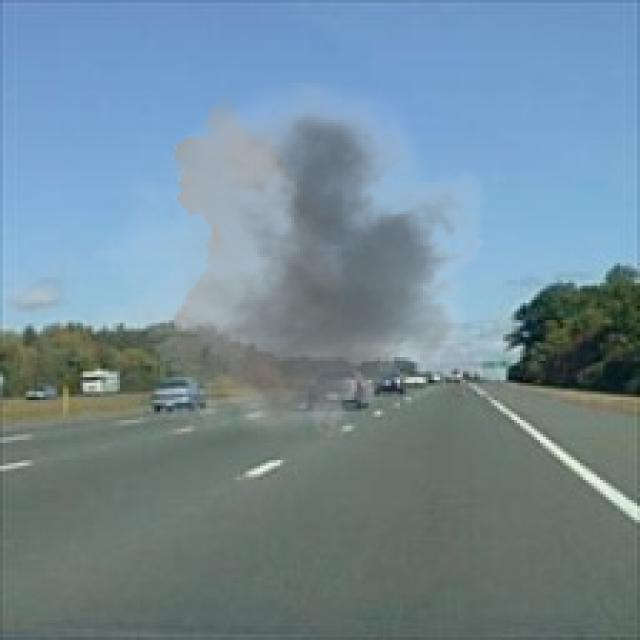Smoke: (88, 80, 506, 452)
